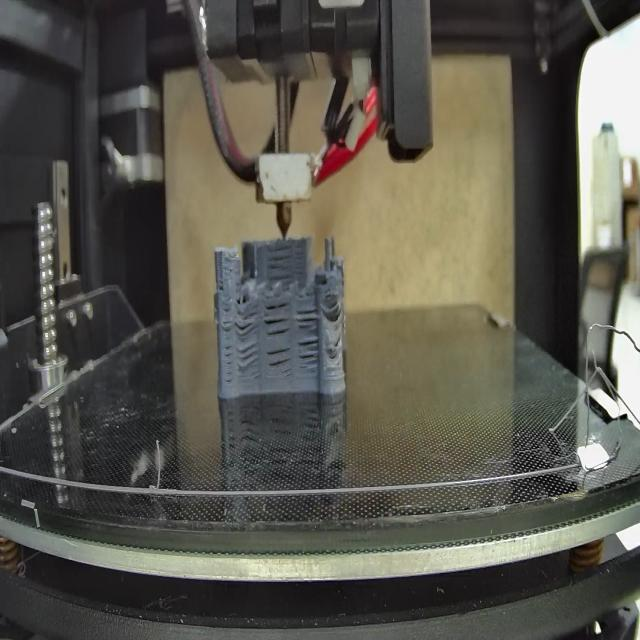cracks: (266, 242, 297, 284), (264, 300, 291, 339), (222, 308, 233, 385), (297, 337, 320, 371), (268, 346, 292, 378), (236, 344, 259, 371), (236, 309, 258, 337), (295, 304, 318, 329), (326, 300, 343, 320), (330, 329, 343, 352), (216, 276, 228, 296)
